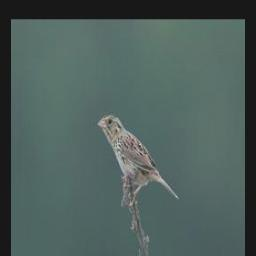Sparrow: (99, 112, 180, 207)
